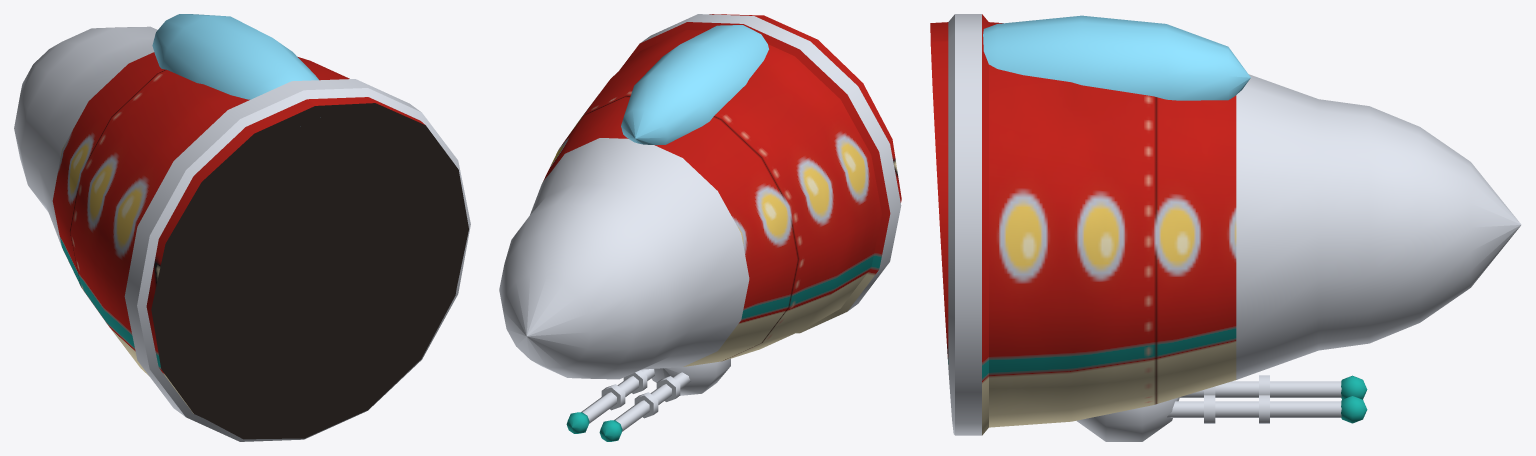
The model's file is thunderbolt_debris1.obj.
3 views of the same model, side by side, from view 1: azimuth 30°, elevation 25°; view 2: azimuth 150°, elevation 25°; view 3: azimuth 270°, elevation 25° (orthographic). The views are drawn at different scales.
Parts seen in each view (by area): view 1: hull, canopy; view 2: hull, canopy, chin, turret, chin_ring, chin_tip; view 3: hull, canopy, chin, turret, chin_tip, chin_ring.
Part boxes in pixels (x1,y1,x2,y2): hull: (14, 26, 470, 441); canopy: (152, 14, 337, 161); hull: (499, 14, 901, 379); canopy: (621, 25, 768, 145); chin: (581, 369, 690, 431); turret: (651, 358, 730, 395); chin_ring: (601, 370, 680, 418); chin_tip: (566, 412, 622, 441); hull: (930, 14, 1521, 435); canopy: (983, 15, 1250, 100); chin: (1167, 381, 1341, 417); turret: (1076, 397, 1179, 441); chin_tip: (1341, 375, 1367, 423); chin_ring: (1204, 375, 1269, 423).
Size of the model in its own units: 4.99 by 5.42 by 6.99.
5 materials, 1 textured.
